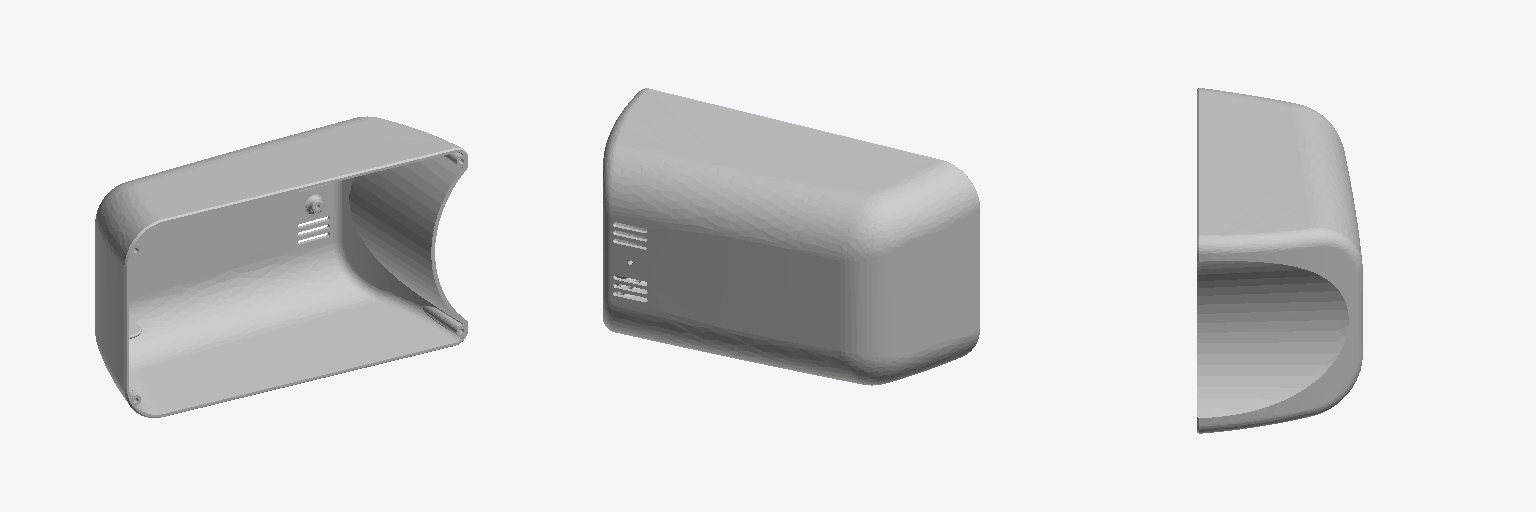
The model's file is hull_r4_vis.obj.
The picture shows the model from 3 angles: view 1: azimuth 30°, elevation 25°; view 2: azimuth 150°, elevation 25°; view 3: azimuth 270°, elevation 25°; orthographic projection.
Parts seen in each view (by area): view 1: Hull_R4_vis; view 2: Hull_R4_vis; view 3: Hull_R4_vis.
Boxes of the visible parts, <box> form: Hull_R4_vis: <box>95,116,467,417</box>; Hull_R4_vis: <box>603,88,979,385</box>; Hull_R4_vis: <box>1197,88,1362,433</box>.
Size of the model in its own units: 0.1775 by 0.0977 by 0.0741.